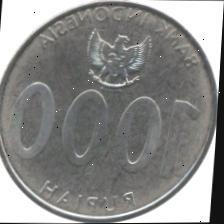coin_1000_e2010: (0, 0, 218, 224)
